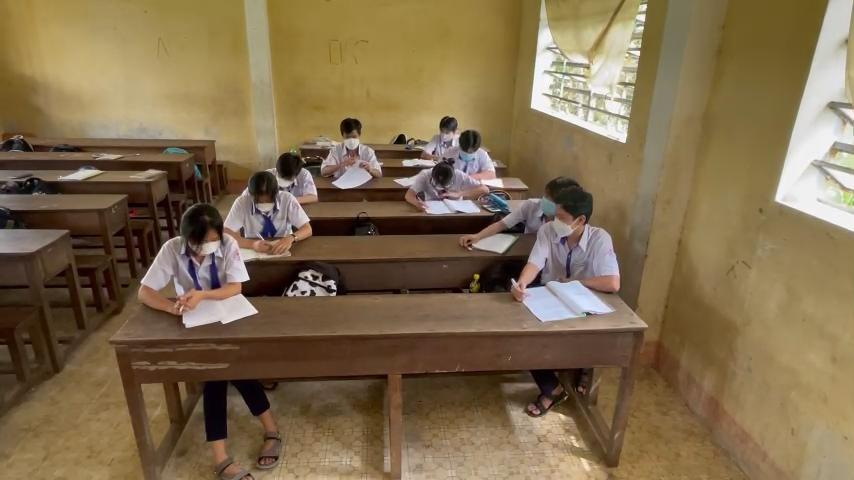Bend Over The Desk: (427, 150, 459, 193)
Look Around: (550, 187, 595, 240)
Normal: (146, 204, 245, 303), (227, 175, 308, 244), (319, 118, 384, 182)
